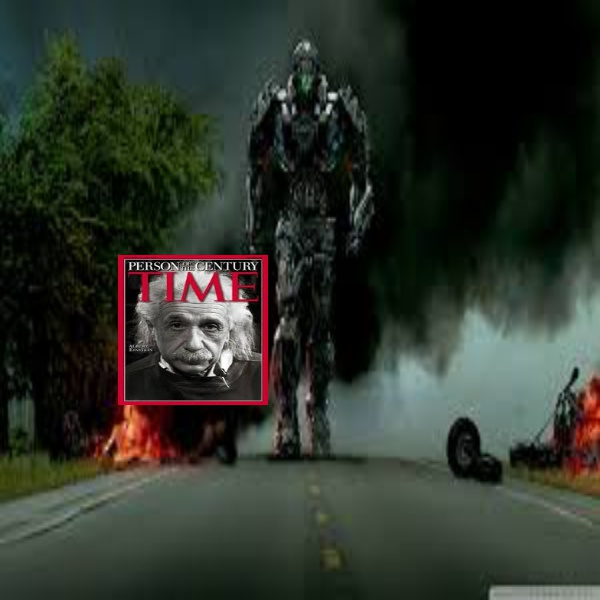time_cover: (116, 242, 275, 412)
